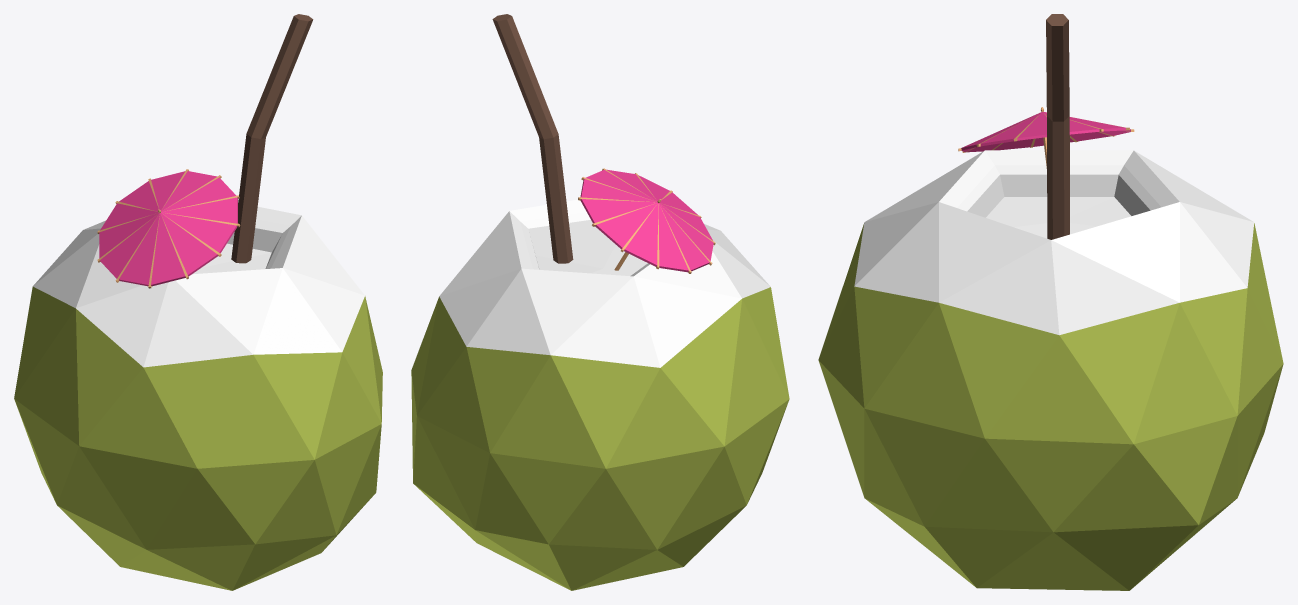
Rendered from Coconut_01.fbx.
The picture shows the model from 3 angles, left to right: view 1: azimuth 30°, elevation 25°; view 2: azimuth 150°, elevation 25°; view 3: azimuth 270°, elevation 25°; orthographic projection. The views are drawn at different scales.
Visible parts, largest first — view 1: Coconut_01; view 2: Coconut_01; view 3: Coconut_01.
Part boxes in pixels (x1,y1,x2,y2): Coconut_01: (14, 14, 382, 590); Coconut_01: (411, 14, 789, 590); Coconut_01: (818, 14, 1283, 590).
Bounding box in the file's own units: 13.85 × 21.47 × 15.54.
